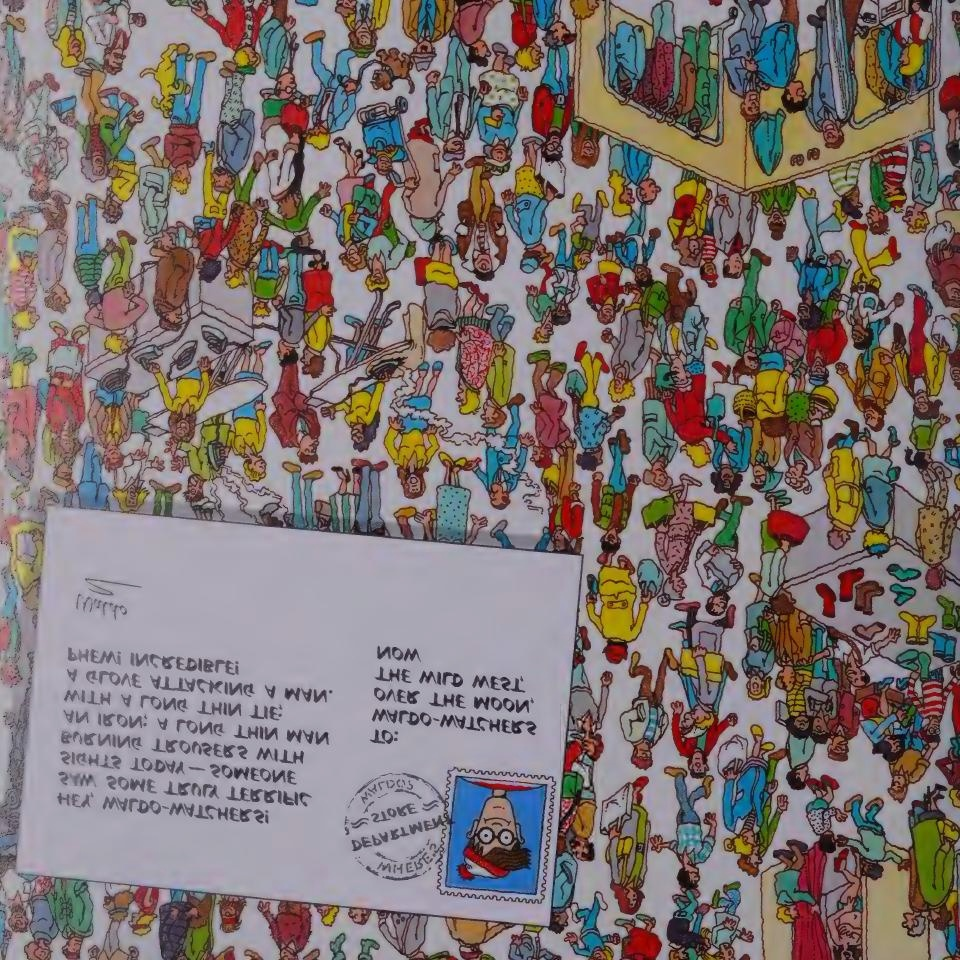waldo: (457, 777, 542, 881), (907, 671, 957, 745)
